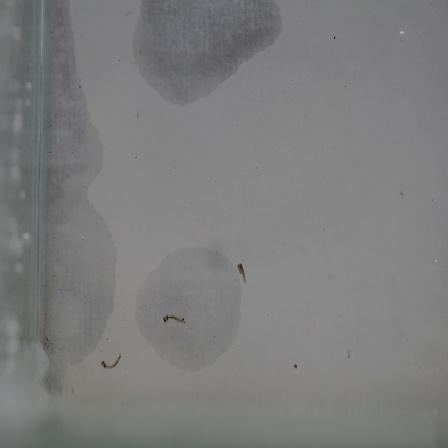Jentik-Nyamuk: (156, 309, 190, 333), (232, 258, 255, 289), (98, 351, 125, 374)
